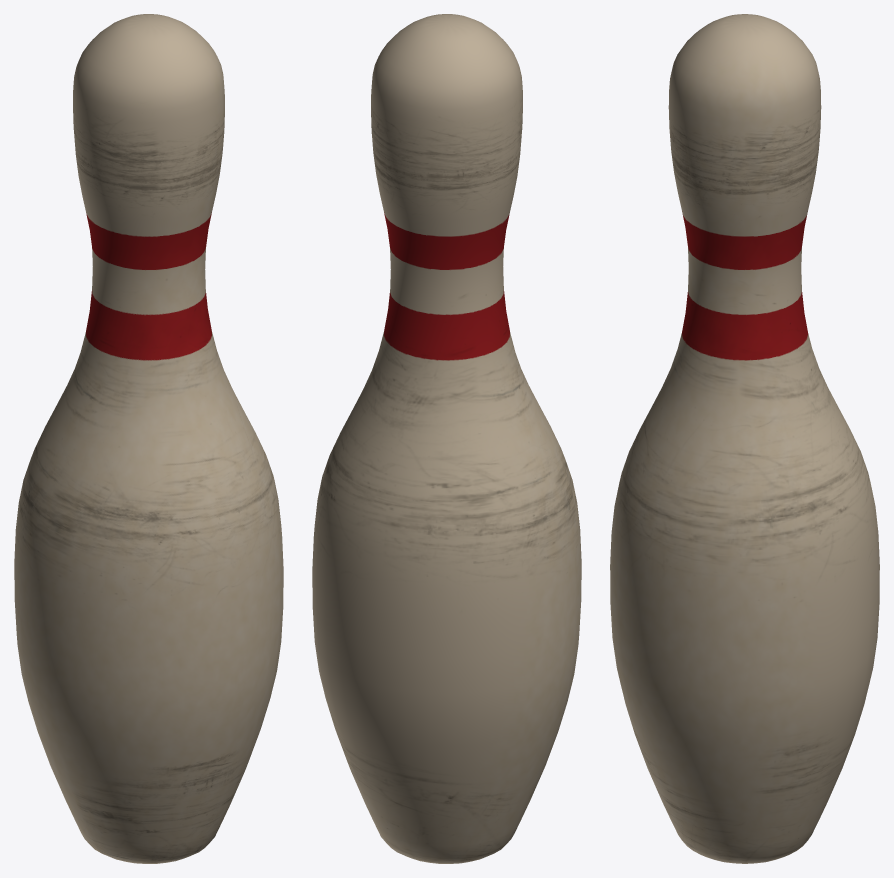
Rendered from bowling_pin2.glb.
3 renders of one model, left to right at view 1: azimuth 30°, elevation 25°; view 2: azimuth 150°, elevation 25°; view 3: azimuth 270°, elevation 25°, orthographic.
Visible parts, largest first — view 1: pin; view 2: pin; view 3: pin.
Part boxes in pixels (x1,y1,x2,y2): pin: (14, 14, 283, 863); pin: (312, 14, 581, 863); pin: (610, 14, 879, 863).
Bounding box in the file's own units: 0.1134 × 0.381 × 0.1134.
1 material, 1 textured.
